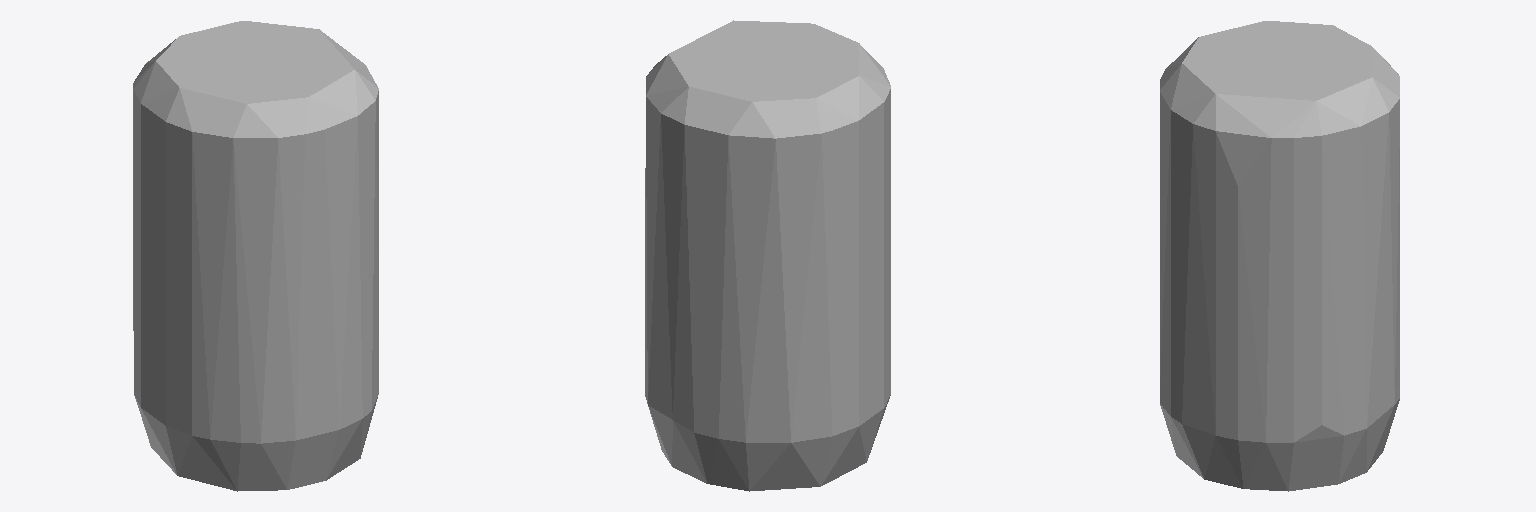
robot.urdf — root:
<robot name="root">
  <link name="link_ac66fb0ff0d50368ced499bff9a86355_convex_piece_0">
    <inertial>
      <origin rpy="0 0 0" xyz="0 0 0"/>
      <mass value="1.12E-04"/>
      <inertia ixx="7.31E-08" ixy="-1.25E-12" ixz="-8.79E-11" iyy="7.31E-08" iyz="2.68E-10" izz="2.96E-08"/>
    </inertial>
    <visual>
      <origin rpy="0 0 0" xyz="0 0 0"/>
      <geometry>
        <mesh filename="ac66fb0ff0d50368ced499bff9a86355_convex_piece_0.obj" scale="1.0000E+00"/>
      </geometry>
      <material name="">
        <color rgba="7.50E-01 7.50E-01 7.50E-01 1"/>
      </material>
    </visual>
    <collision>
      <origin rpy="0 0 0" xyz="0 0 0"/>
      <geometry>
        <mesh filename="ac66fb0ff0d50368ced499bff9a86355_convex_piece_0.obj" scale="1.0000E+00"/>
      </geometry>
    </collision>
  </link>
</robot>

--- Render facts (derived) ---
The picture shows the robot from 3 angles, left to right: view 1: azimuth 30°, elevation 25°; view 2: azimuth 150°, elevation 25°; view 3: azimuth 270°, elevation 25°; orthographic projection.
Model root with 1 links and 0 joints (none), rooted at link_ac66fb0ff0d50368ced499bff9a86355_convex_piece_0, posed all joints at 0.
Links seen in each view (by area): view 1: link_ac66fb0ff0d50368ced499bff9a86355_convex_piece_0; view 2: link_ac66fb0ff0d50368ced499bff9a86355_convex_piece_0; view 3: link_ac66fb0ff0d50368ced499bff9a86355_convex_piece_0.
Link boxes in pixels (left/top/right/bottom): link_ac66fb0ff0d50368ced499bff9a86355_convex_piece_0: left=133, top=21, right=378, bottom=491; link_ac66fb0ff0d50368ced499bff9a86355_convex_piece_0: left=645, top=20, right=890, bottom=491; link_ac66fb0ff0d50368ced499bff9a86355_convex_piece_0: left=1160, top=21, right=1399, bottom=491.
Bounding box of the posed robot: 0.046 × 0.046 × 0.0814 m (x, y, z).
Meshes: 1 distinct files referenced, 1 mesh visuals loaded (1 OBJ).